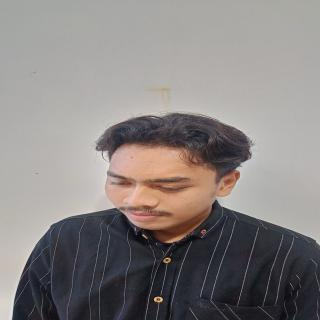Sedih: (100, 139, 221, 233)
